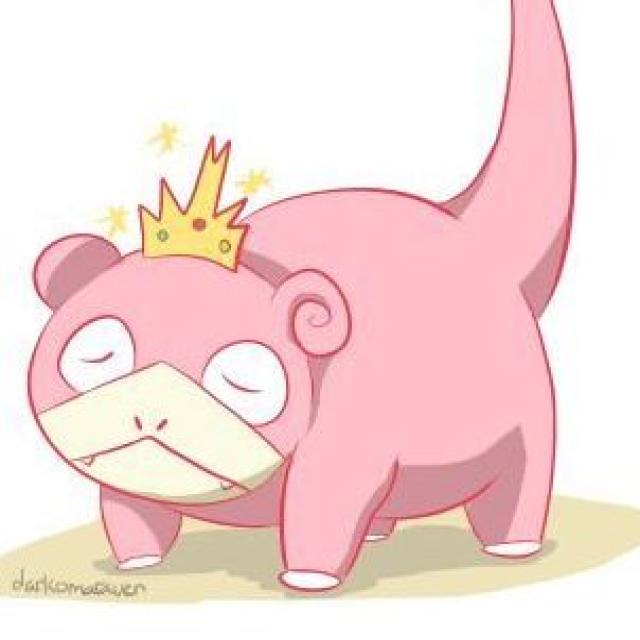Slowpoke: (30, 134, 582, 591)
